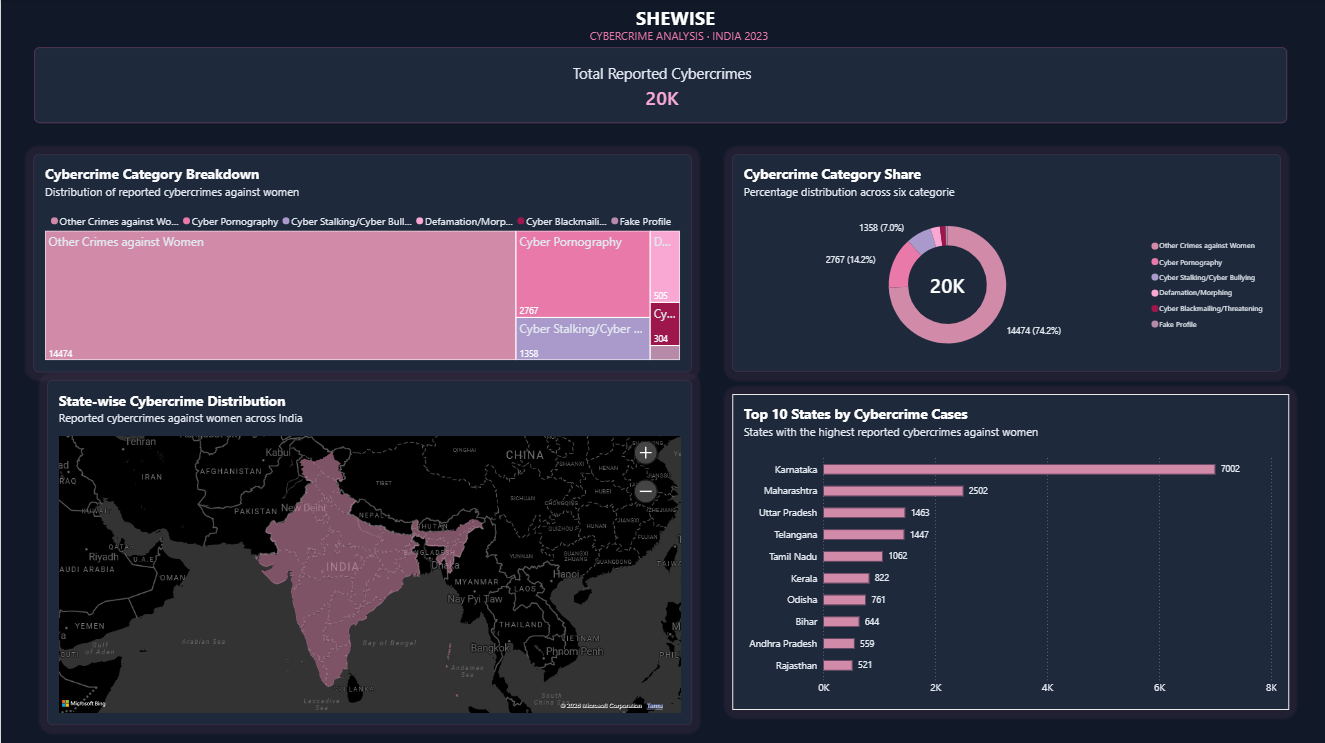

Layout of this report page (visuals, bound fields, positions):
{"tool":"powerbi","page":{"name":"Cybercrime Analysis","canvas":[1920,1080],"ordinal":1},"visuals":[{"type":"cardVisual","fields":{"Data":["Sum(PowerBI_Ready (2).Total Cyber Crimes against Women)"]},"box":[47.1,68.8,1816.9,112.2],"z":0},{"type":"treemap","title":"Cybercrime Category Breakdown","fields":{"Group":["Cybercrime_Category_Analysis.Cybercrime Category"],"Values":["Sum(Cybercrime_Category_Analysis.Number of Cases)"]},"box":[47.1,223.5,952.9,315.7],"z":1000},{"type":"filledMap","title":"State-wise Cybercrime Distribution","fields":{"Category":["PowerBI_Ready (2).State/UT"]},"box":[67,551.9,933.8,499.5],"z":2000},{"type":"clusteredBarChart","title":"Top 10 States by Cybercrime Cases","fields":{"Category":["PowerBI_Ready (2).State/UT"],"Y":["Sum(PowerBI_Ready (2).Total Cyber Crimes against Women)"]},"box":[1058.7,571.9,805.3,457.8],"z":3000},{"type":"donutChart","title":"Cybercrime Category Share","fields":{"Category":["Cybercrime_Category_Analysis.Cybercrime Category"],"Y":["Sum(Cybercrime_Category_Analysis.Number of Cases)"]},"box":[1058.7,224.4,794.4,314.9],"z":4000},{"type":"textbox","box":[920,8.3,139.2,46.7],"z":5000},{"type":"textbox","box":[851.8,41.1,275,28.6],"z":6000}]}

Visuals, with their boxes in screenshot pixels (x1, y1, x2, y2), scaled from the page's 1920x1080 canvas onto the 1325x743 screenshot:
cardVisual - Sum(PowerBI_Ready (2).Total Cyber Crimes against Women): bbox(33, 47, 1286, 125)
"Cybercrime Category Breakdown" treemap: bbox(33, 154, 690, 371)
"State-wise Cybercrime Distribution" filledMap: bbox(46, 380, 691, 723)
"Top 10 States by Cybercrime Cases" clusteredBarChart: bbox(731, 393, 1286, 708)
"Cybercrime Category Share" donutChart: bbox(731, 154, 1279, 371)
textbox: bbox(635, 6, 731, 38)
textbox: bbox(588, 28, 778, 48)
